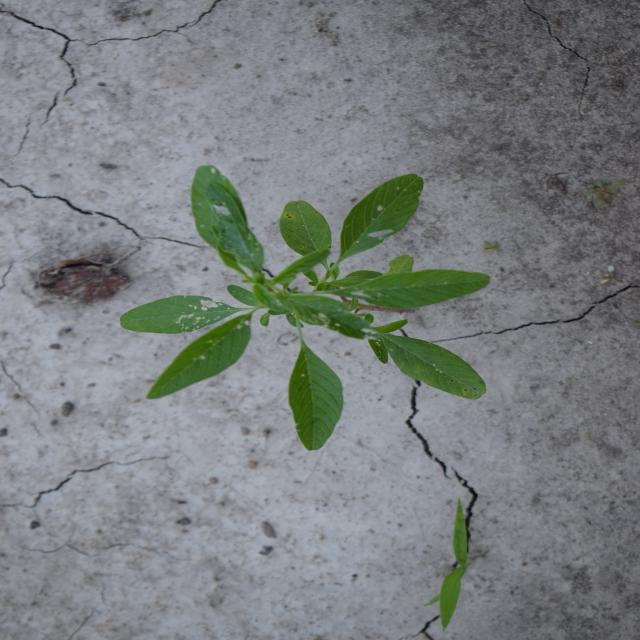Waterhemp: (116, 165, 492, 452)
